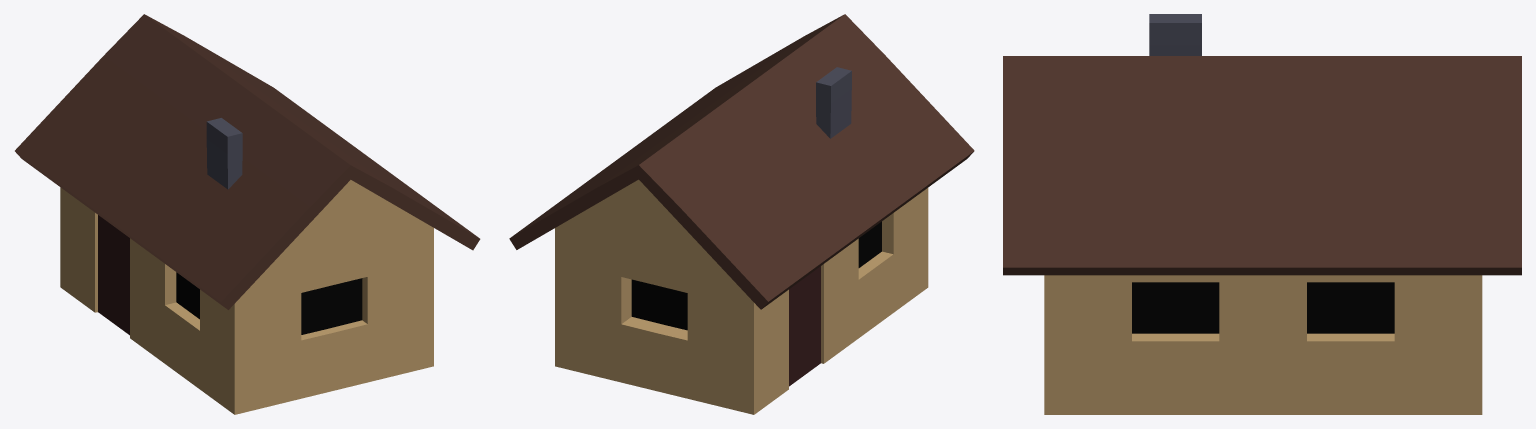
The model's file is House3.glb.
The picture shows the model from 3 angles, left to right: view 1: azimuth 30°, elevation 25°; view 2: azimuth 150°, elevation 25°; view 3: azimuth 270°, elevation 25°; orthographic projection. The views are drawn at different scales.
Visible parts, largest first — view 1: House3; view 2: House3; view 3: House3.
Part boxes in pixels (left/top/right/bottom): House3: left=15, top=14, right=480, bottom=414; House3: left=509, top=14, right=974, bottom=414; House3: left=1003, top=14, right=1521, bottom=414.
Bounding box in the file's own units: 5.17 × 4.55 × 7.13.
